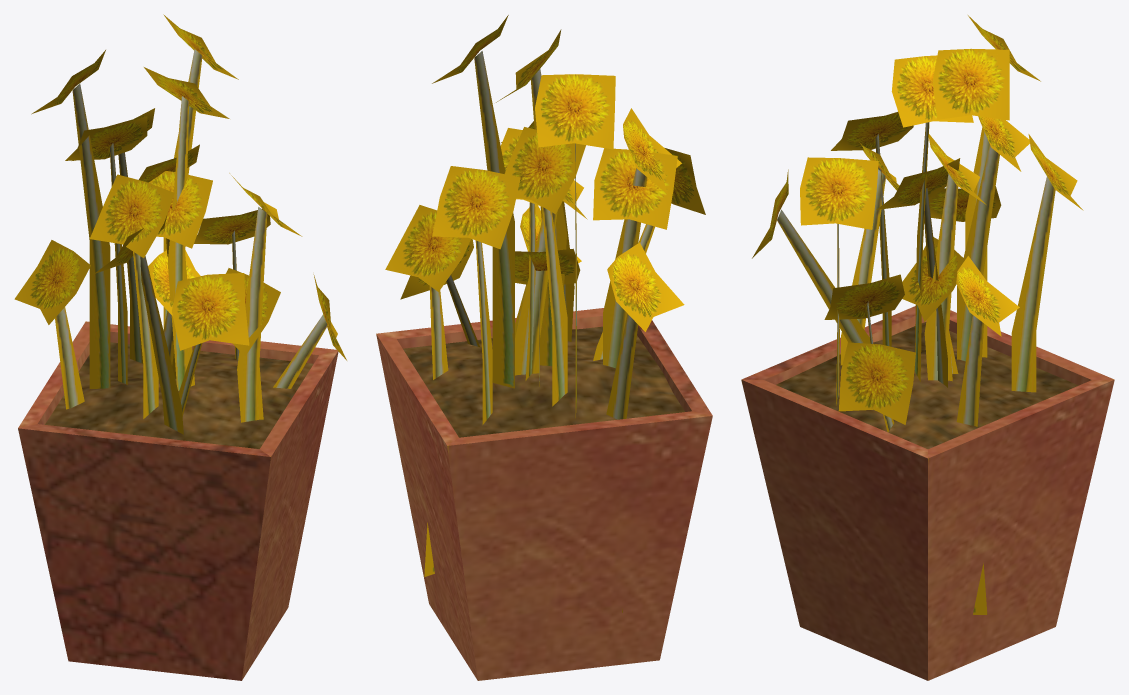
Rendered from flower.glb.
3 renders of one model, left to right at view 1: azimuth 30°, elevation 25°; view 2: azimuth 150°, elevation 25°; view 3: azimuth 270°, elevation 25°, orthographic. The views are drawn at different scales.
Parts seen in each view (by area): view 1: Object001_02 - Default_0, Object001_01 - Default_0; view 2: Object001_02 - Default_0, Object001_01 - Default_0; view 3: Object001_02 - Default_0, Object001_01 - Default_0.
Boxes of the visible parts, x1=… form: Object001_02 - Default_0: x1=18, y1=321, x2=338, y2=680; Object001_01 - Default_0: x1=14, y1=14, x2=346, y2=434; Object001_02 - Default_0: x1=376, y1=308, x2=712, y2=680; Object001_01 - Default_0: x1=385, y1=15, x2=705, y2=612; Object001_02 - Default_0: x1=741, y1=306, x2=1114, y2=680; Object001_01 - Default_0: x1=752, y1=15, x2=1083, y2=614.
Size of the model in its own units: 24.07 by 41.99 by 24.07.
2 materials, 2 textured.
